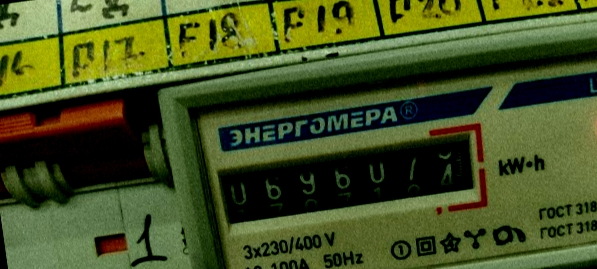0: (228, 177, 252, 210), (367, 155, 390, 187)
4: (436, 162, 459, 192)
6: (262, 171, 288, 204), (333, 162, 356, 192)
7: (402, 151, 423, 184)
9: (299, 168, 320, 199)
screen: (201, 117, 495, 246)
